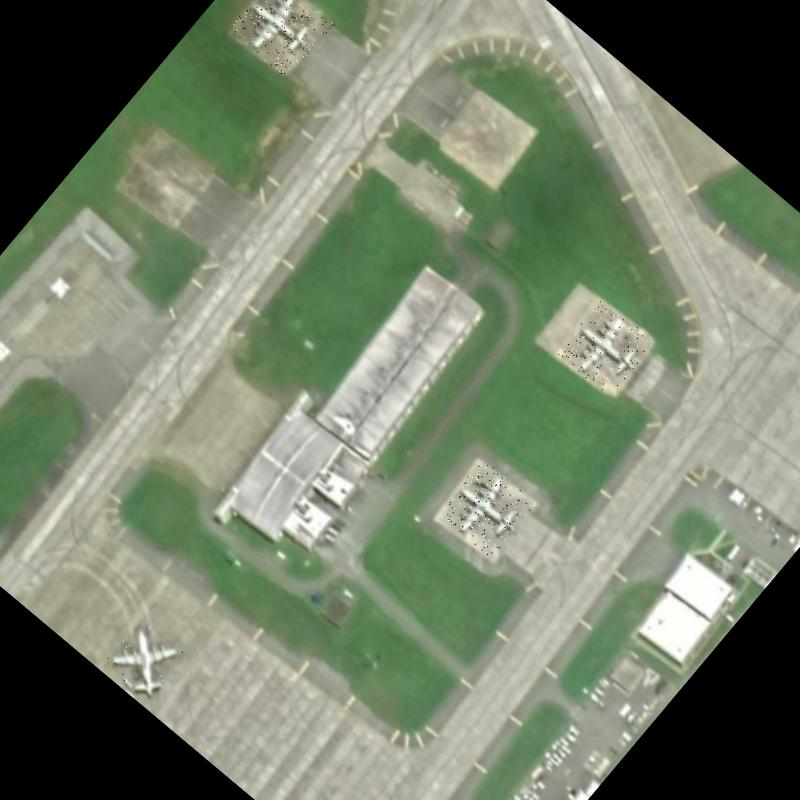A9: (436, 458, 537, 559), (555, 298, 655, 398), (98, 614, 192, 706), (226, 0, 334, 80)
